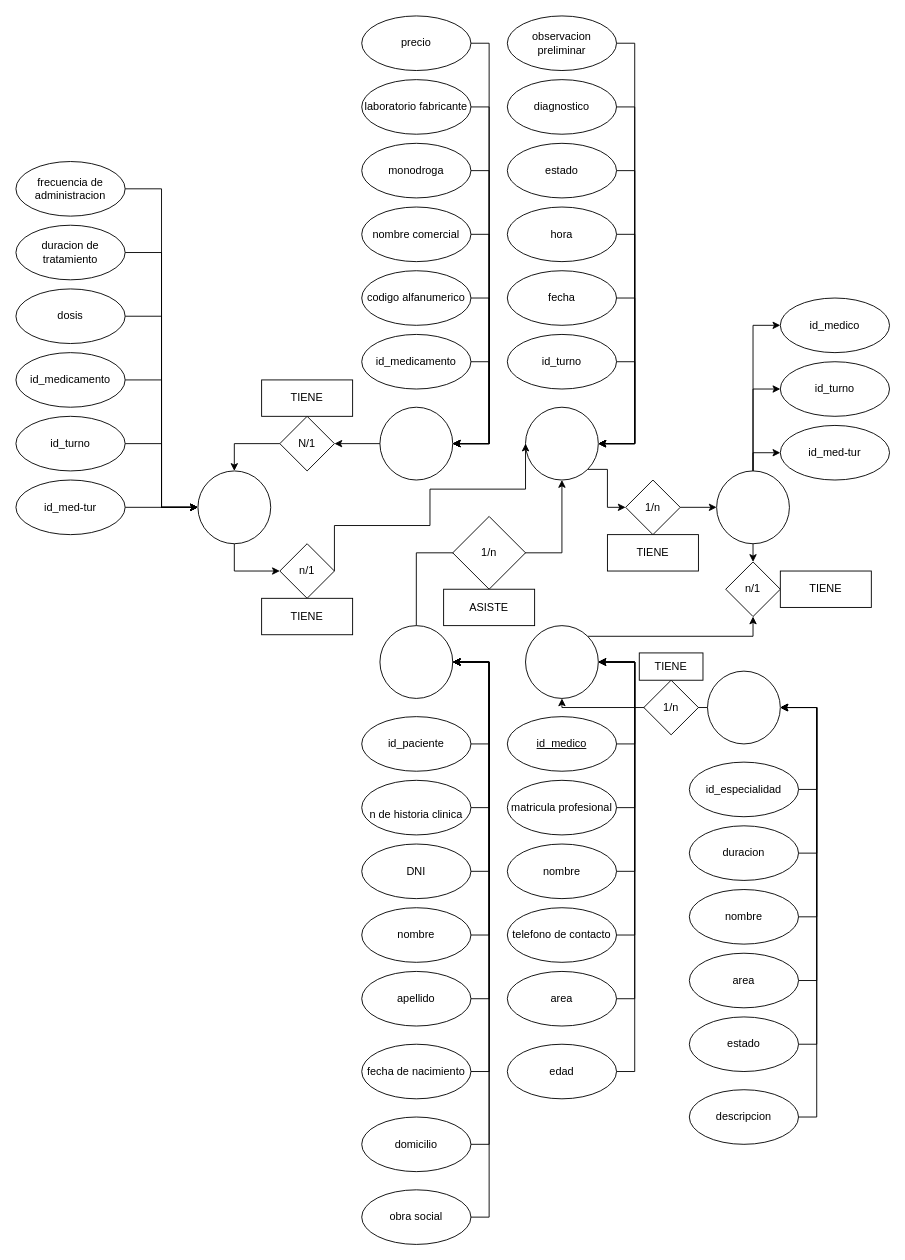
This 905x1260 diagram has some shape labels left out. Each missing label, with the centre of its shape:
"ESPECIALIDAD" goes at [743,707].
"MEDICAMENTO" goes at [416,443].
"medicamento-turno" goes at [234,507].
"MEDICO" goes at [561,661].
"medico-tur" goes at [752,507].
"PACIENTE" goes at [416,661].
"TURNO" goes at [561,443].
